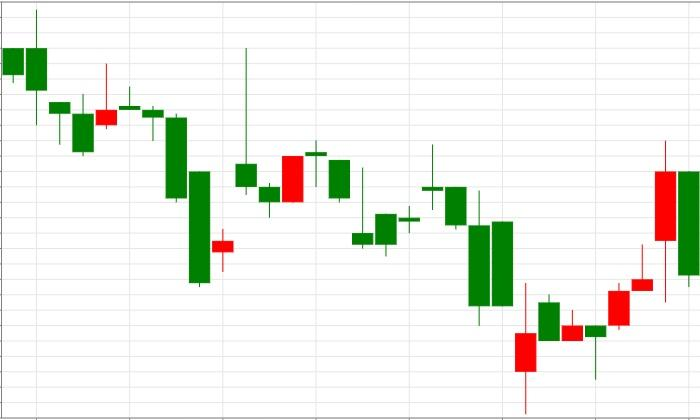evening_star_fall: (188, 47, 351, 288)
